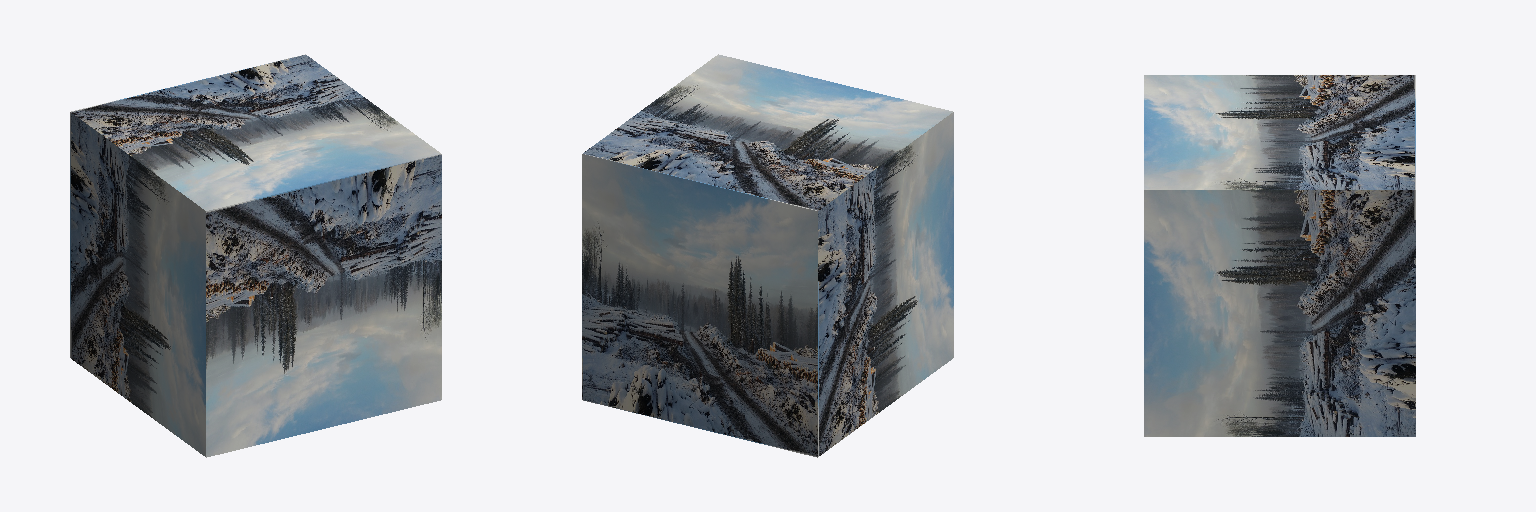
3 renders of one model, left to right at view 1: azimuth 30°, elevation 25°; view 2: azimuth 150°, elevation 25°; view 3: azimuth 270°, elevation 25°, orthographic.
Visible parts, largest first — view 1: Cube; view 2: Cube; view 3: Cube.
Part boxes in pixels (x1,y1,x2,y2): Cube: (70,54,441,457); Cube: (582,54,953,457); Cube: (1144,75,1415,436).
Bounding box in the file's own units: 10 × 10 × 10.
Materials: 1 (1 with a texture image).